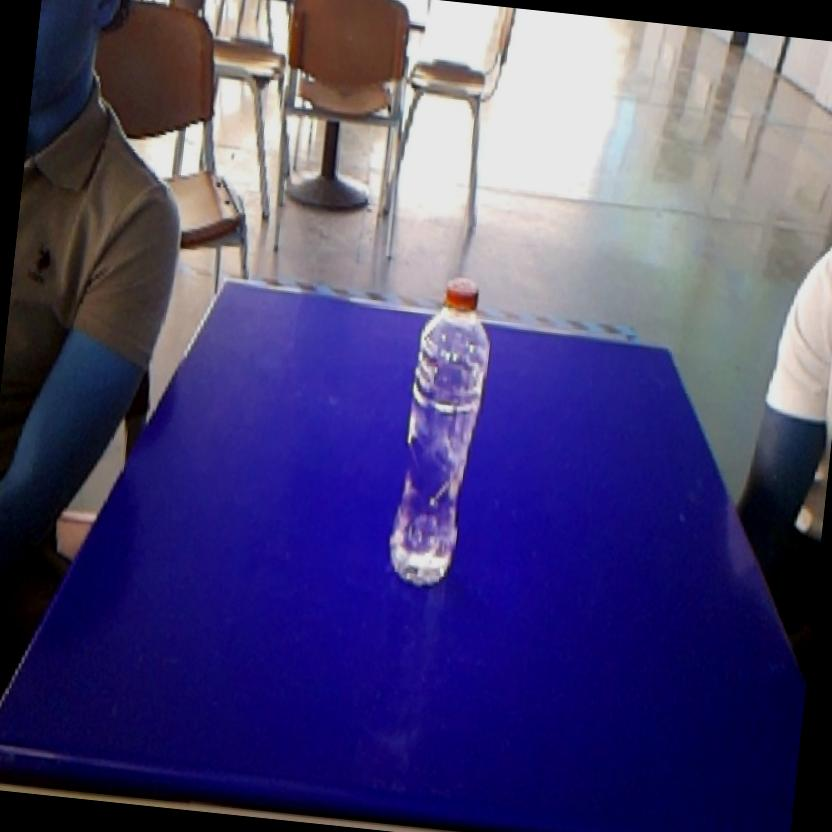no_label: (376, 259, 505, 599)
